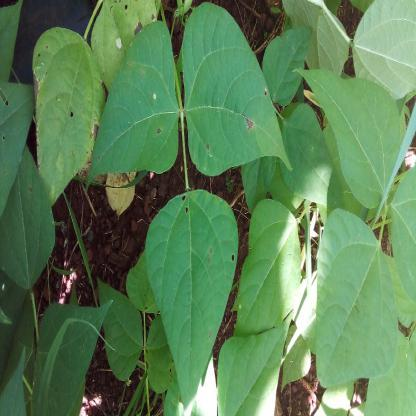Beans_Angular_LeafSpot: (147, 193, 237, 404), (183, 4, 292, 173), (92, 22, 178, 180), (30, 20, 102, 192)
